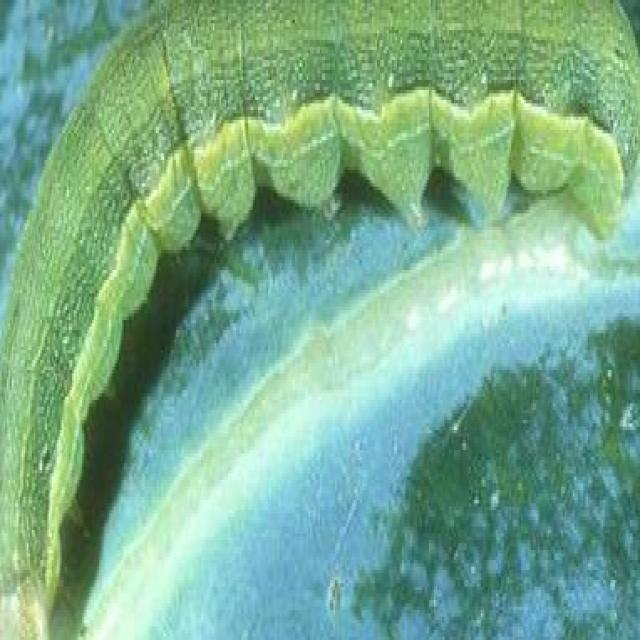BeetArmyWorm-Larva-: (2, 3, 638, 637)
